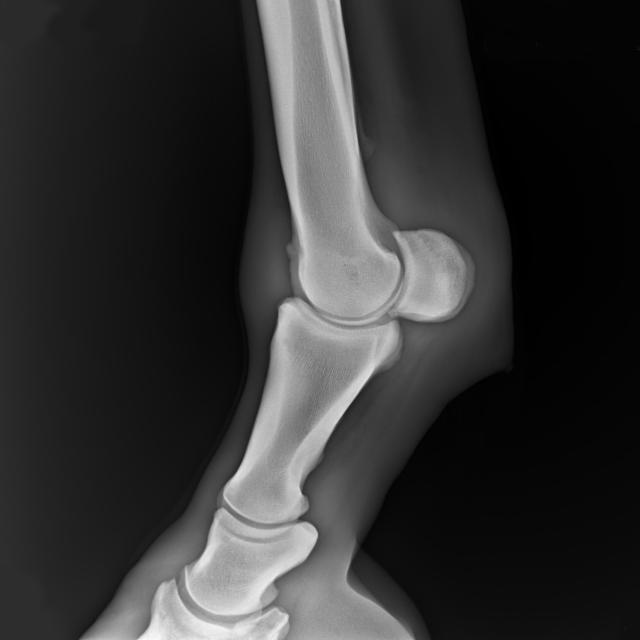joint-ht8A: (213, 142, 504, 414)
